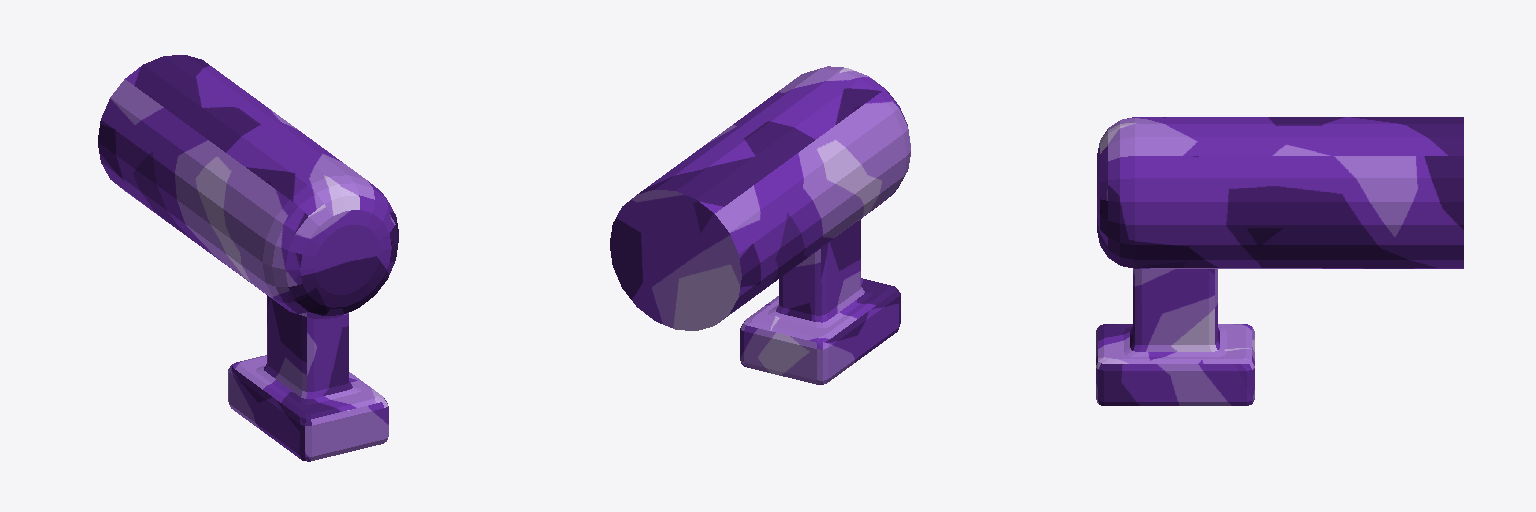
3 renders of one model, left to right at view 1: azimuth 30°, elevation 25°; view 2: azimuth 150°, elevation 25°; view 3: azimuth 270°, elevation 25°, orthographic.
Parts seen in each view (by area): view 1: Dryer; view 2: Dryer; view 3: Dryer.
Part boxes in pixels (x1,y1,x2,y2): Dryer: (98,55,398,461); Dryer: (610,66,910,384); Dryer: (1096,117,1463,405).
Size of the model in its own units: 2.85 by 5.45 by 6.88.
Materials: 1 (1 with a texture image).